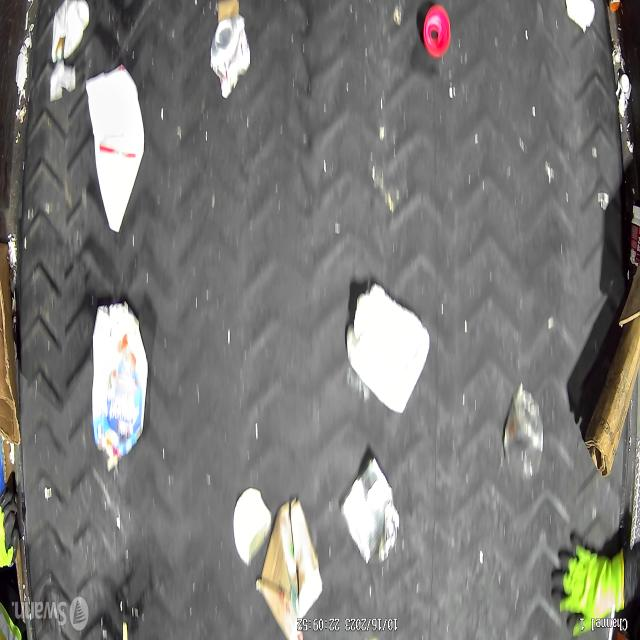can: (339, 456, 394, 563), (210, 14, 250, 98)
non_white_jug: (91, 303, 149, 471)
